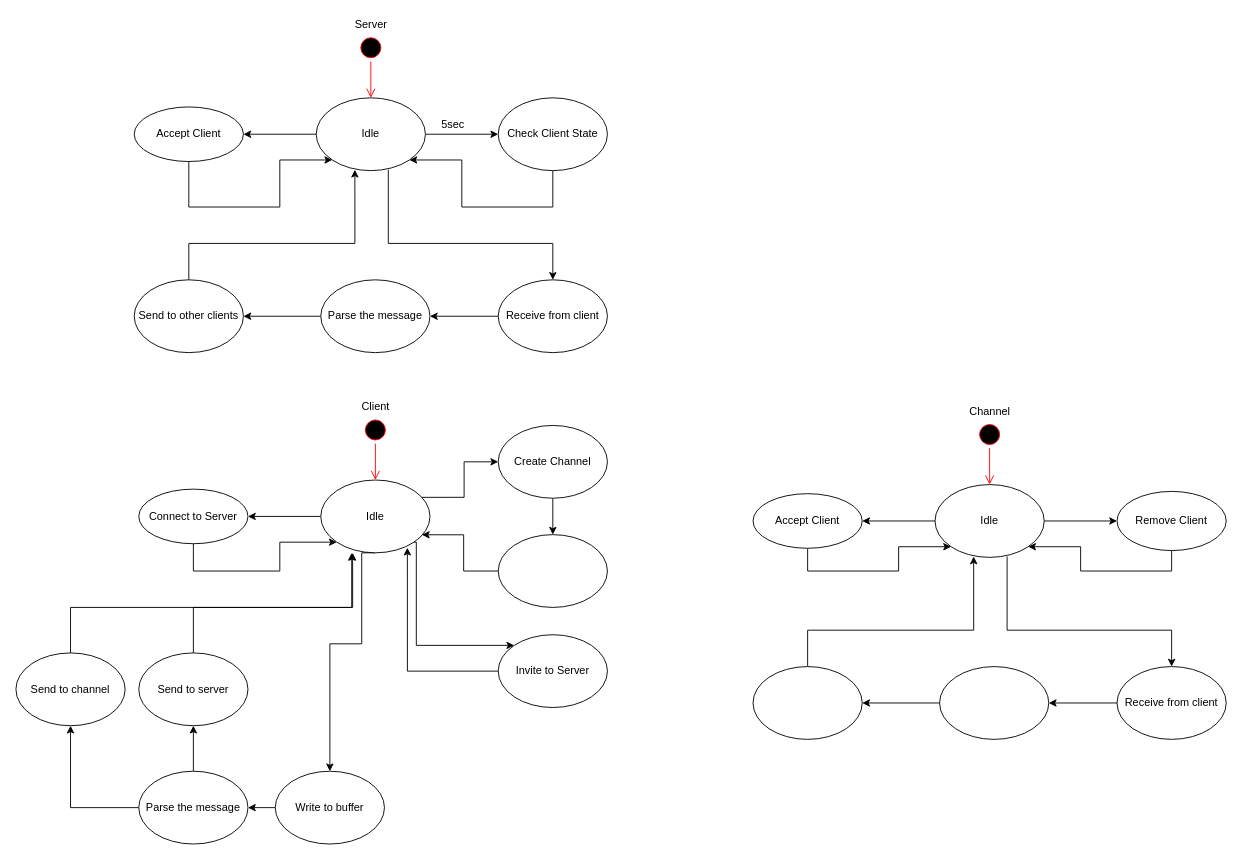
Some shapes in this 1242 by 860 pixel diagram are drawn without their labels. The shapes that lost their labels are listed below. From the top down, each one's box as (x1, y1, x2, y2) in pixels, then its label:
(497, 534, 607, 607): Join Channel
(752, 666, 862, 739): Send to channel members
(939, 666, 1049, 739): Parse
